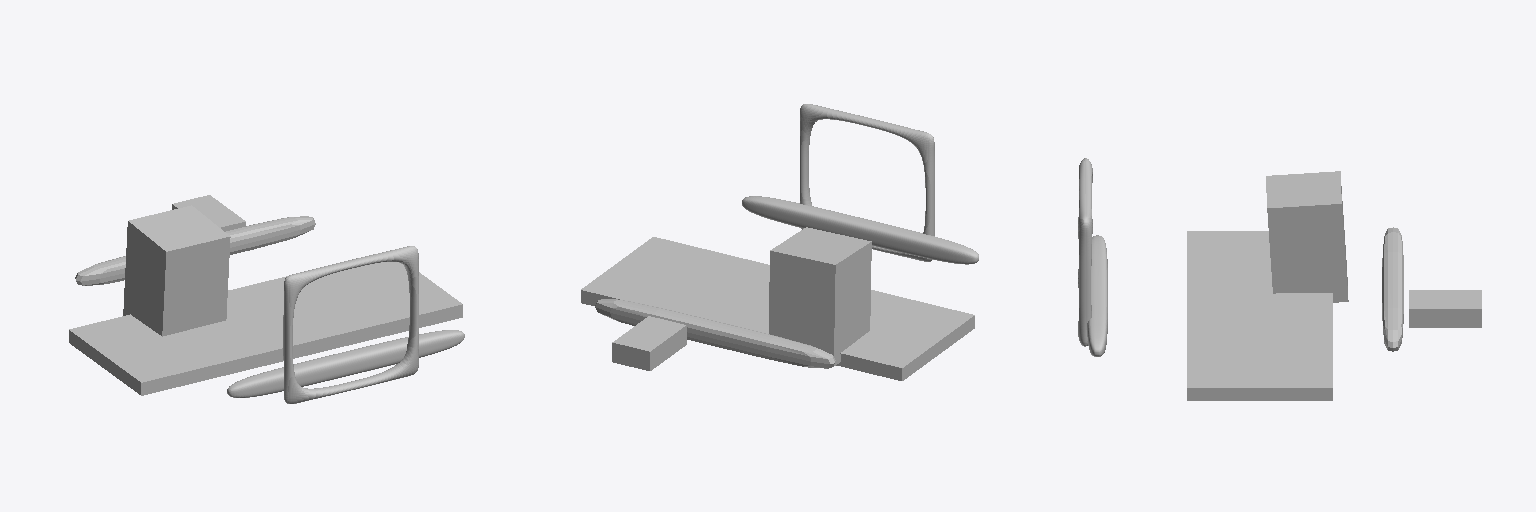
File: phoenix_3Dmodel__metalStructure.obj
The picture shows the model from 3 angles: view 1: azimuth 30°, elevation 25°; view 2: azimuth 150°, elevation 25°; view 3: azimuth 270°, elevation 25°; orthographic projection.
Parts seen in each view (by area): view 1: Cube.015, Cube.007, Plane, Cube.009, Cube.003, Cube.012; view 2: Cube.015, Cube.007, Cube.009, Cube.003, Plane, Cube.012; view 3: Cube.015, Cube.007, Cube.012, Cube.003, Plane, Cube.009.
Part boxes in pixels (x1,y1,x2,y2): Cube.015: (69, 262, 462, 395); Cube.007: (123, 205, 230, 336); Plane: (283, 246, 418, 403); Cube.009: (227, 330, 464, 397); Cube.003: (75, 216, 315, 285); Cube.012: (172, 195, 245, 230); Cube.015: (581, 237, 974, 380); Cube.007: (769, 227, 871, 366); Cube.009: (742, 196, 978, 264); Cube.003: (595, 299, 835, 368); Plane: (800, 104, 934, 261); Cube.012: (612, 316, 686, 370); Cube.015: (1187, 231, 1332, 400); Cube.007: (1266, 171, 1348, 302); Cube.012: (1409, 290, 1481, 327); Cube.003: (1382, 227, 1403, 351); Plane: (1078, 158, 1092, 346); Cube.009: (1087, 235, 1107, 356).
Bounding box in the file's own units: 1.3 × 0.5147 × 1.41.